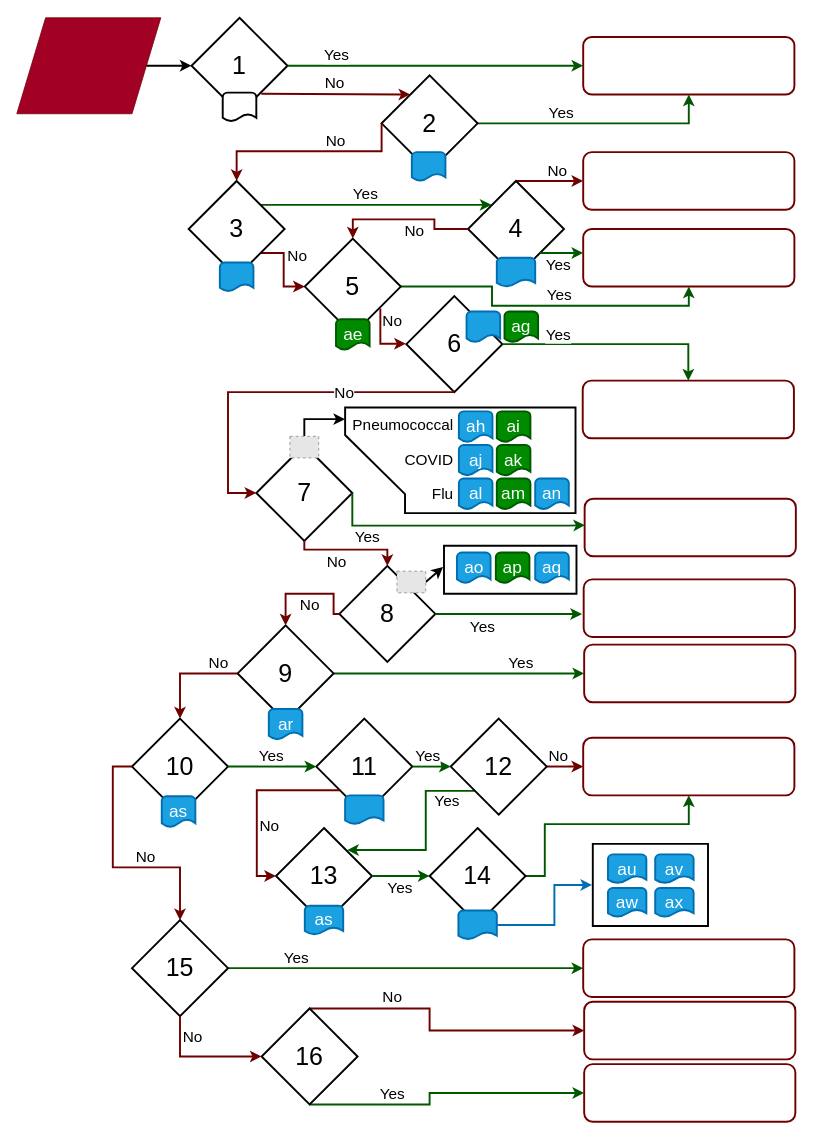
Some shapes in this 813 by 1139 pixel diagram are drawn without their labels. Grey dashed boxes stand in for pictures. The shapes that lost their labels are listed below. From the top down, each one's box as (x1, y1, x2, y2) in pixels, then its label:
(16, 17, 161, 114): Unprocessed Consultation Event
(582, 36, 795, 95): A1. Triage
(221, 91, 257, 122): aa
(410, 151, 446, 181): ab
(582, 151, 795, 210): A6. Medication review
(218, 261, 254, 292): ac
(495, 256, 536, 287): ad
(582, 228, 795, 287): A5. High risk drugs review
(465, 310, 501, 343): af
(581, 379, 794, 439): A8. Prevention: Childhood immunisation
(583, 497, 796, 557): A9. Prevention: Flu / pneumococcal / COVID immunisation
(582, 578, 795, 637): A10. Prevention: other immunisation
(583, 643, 796, 703): A11. Screening
(582, 736, 795, 796): A4. Planned: QOF condition
(344, 794, 384, 825): at
(582, 938, 795, 997): A7. Follow up to planned
(583, 1000, 796, 1060): A2. New unplanned consultation
(583, 1063, 796, 1122): A3. Follow up to unplanned consultation
